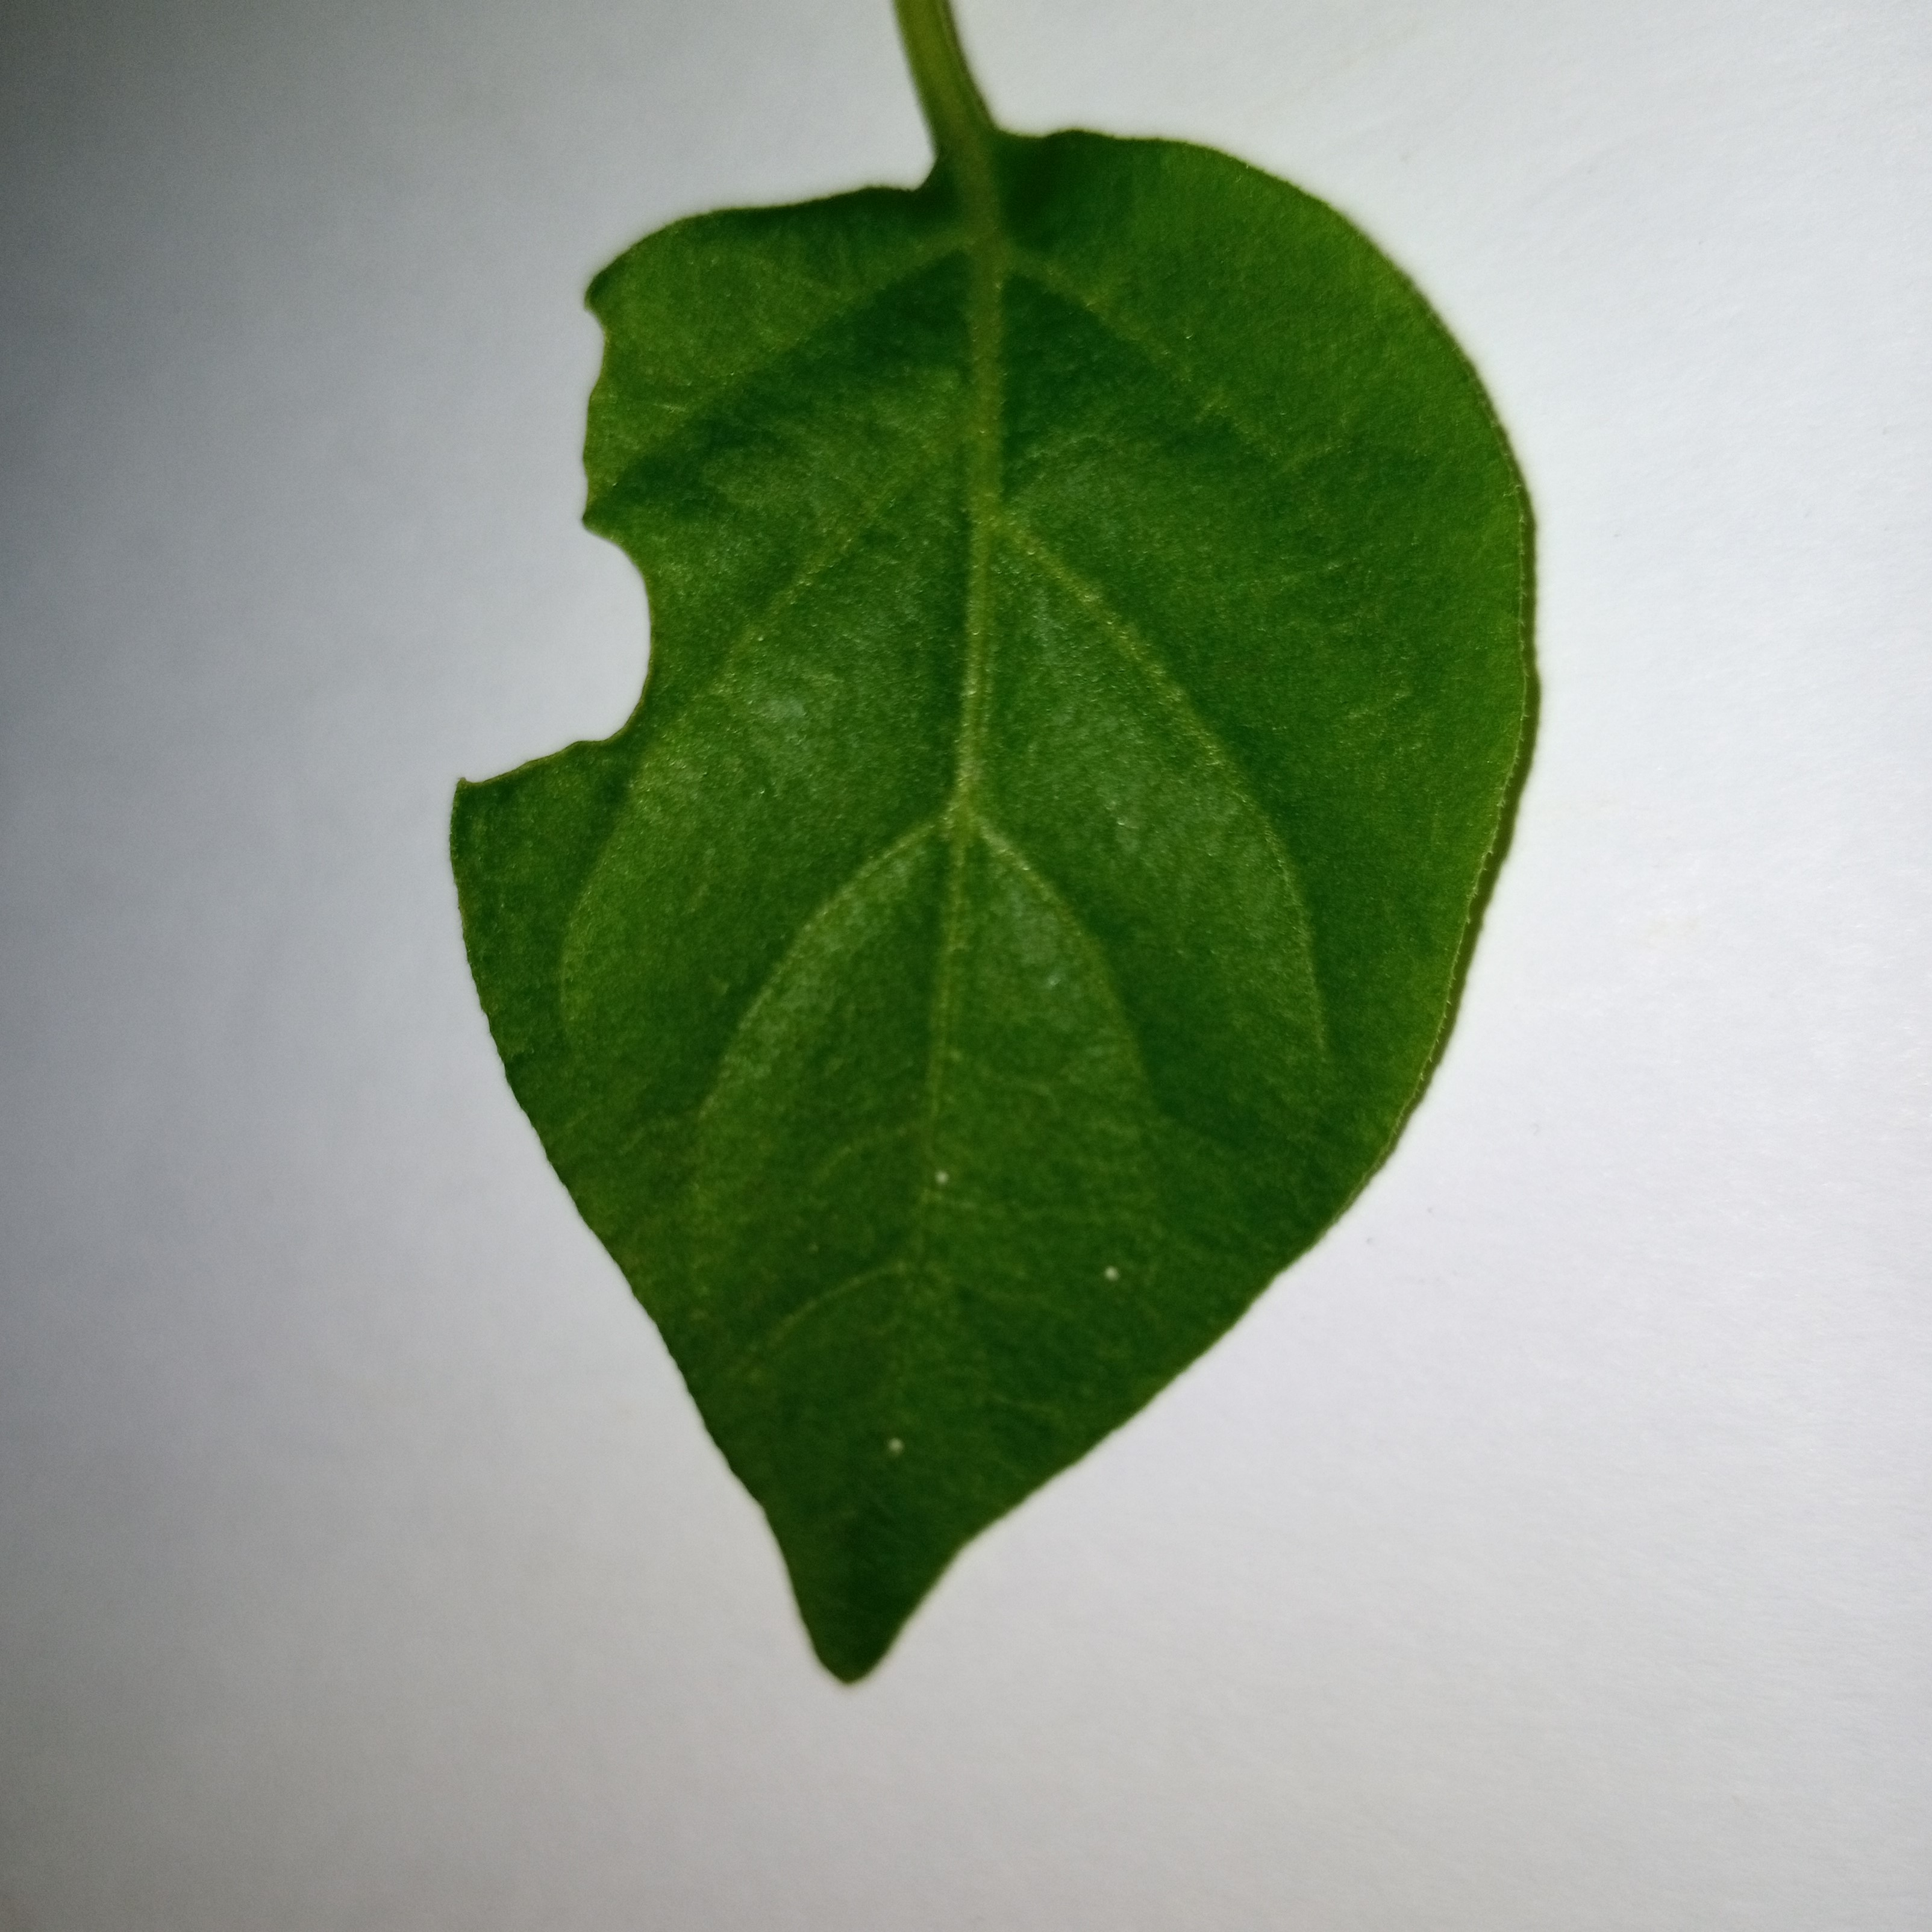Leaf: (327, 71, 1665, 1829)
